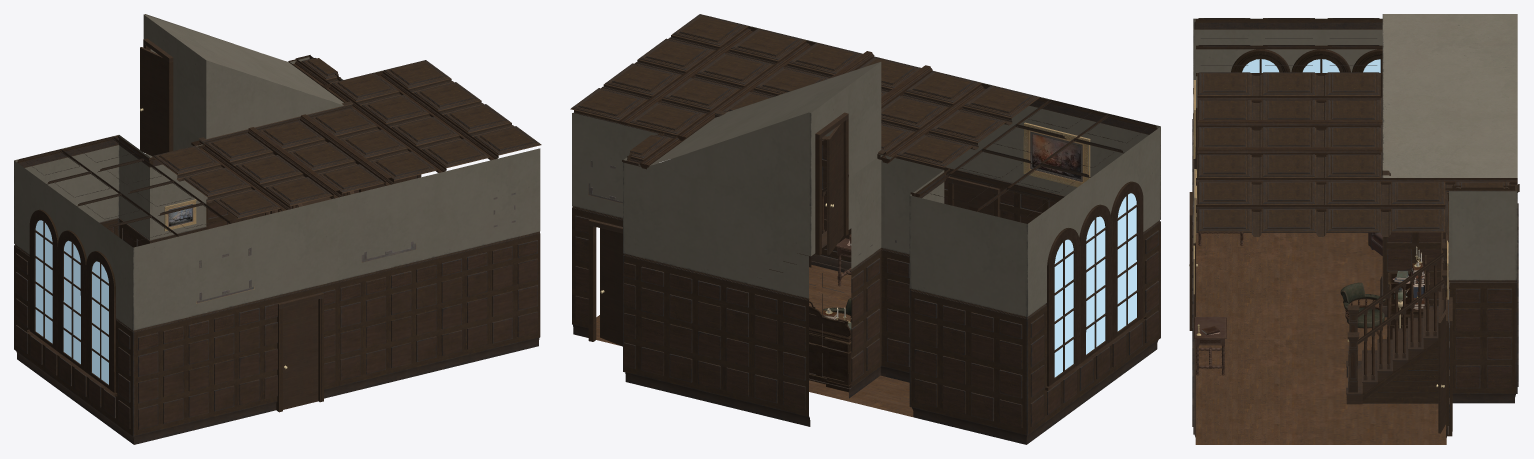
File: hallway-0b523ffcfabd.glb
3 views of the same model, side by side, from view 1: azimuth 30°, elevation 25°; view 2: azimuth 150°, elevation 25°; view 3: azimuth 270°, elevation 25° (orthographic). The views are drawn at different scales.
Parts seen in each view (by area): view 1: Door_Frame_1_Interior_0, Glass_1_Interior_0, Painting_1_Victorian_Paintings_0; view 2: Door_Frame_1_Interior_0, Glass_1_Interior_0, Painting_1_Victorian_Paintings_0, Grand_Victorian_Desk_Grand_Victorian_Desk_0; view 3: Door_Frame_1_Interior_0, Side_Table_1_Wooden_Furniture_0, Victorian_Chair_Chair_Green_0, Glass_1_Interior_0, Grand_Victorian_Desk_Grand_Victorian_Desk_0, Painting_1_Victorian_Paintings_0, Book_1_Books_0.
Part boxes in pixels (box(x1,y1,x2,y2)): Door_Frame_1_Interior_0: box(14, 14, 541, 444); Glass_1_Interior_0: box(35, 220, 108, 384); Painting_1_Victorian_Paintings_0: box(164, 193, 515, 303); Door_Frame_1_Interior_0: box(570, 14, 1160, 444); Glass_1_Interior_0: box(1054, 193, 1136, 377); Painting_1_Victorian_Paintings_0: box(588, 122, 1090, 255); Grand_Victorian_Desk_Grand_Victorian_Desk_0: box(809, 301, 851, 392); Door_Frame_1_Interior_0: box(1189, 14, 1519, 444); Side_Table_1_Wooden_Furniture_0: box(1194, 195, 1243, 375); Victorian_Chair_Chair_Green_0: box(1340, 282, 1385, 345); Glass_1_Interior_0: box(1242, 59, 1380, 72); Grand_Victorian_Desk_Grand_Victorian_Desk_0: box(1387, 255, 1429, 339); Painting_1_Victorian_Paintings_0: box(1192, 80, 1449, 299); Book_1_Books_0: box(1201, 263, 1424, 335).
Bounding box in the file's own units: 8.05 × 5.23 × 5.17.
Materials: 10 (9 with a texture image).
